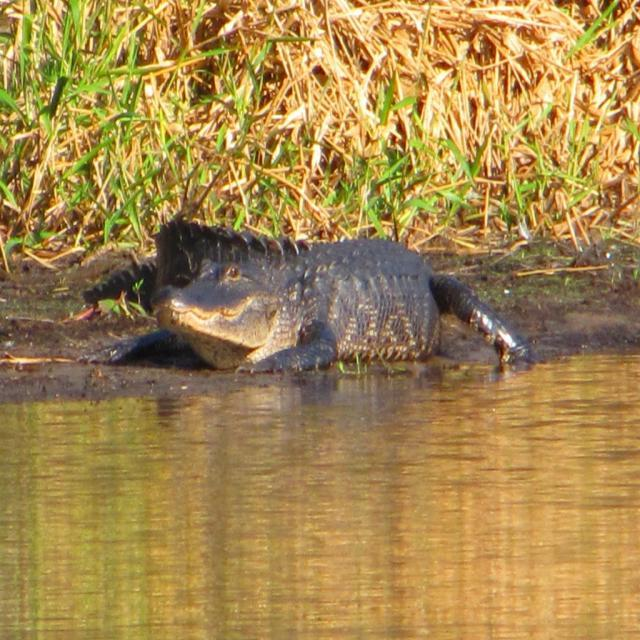crocodile: (45, 198, 564, 404)
